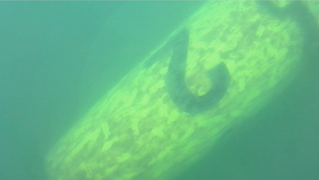2: (142, 27, 230, 113), (210, 119, 247, 151)
pipe: (42, 1, 319, 179)
